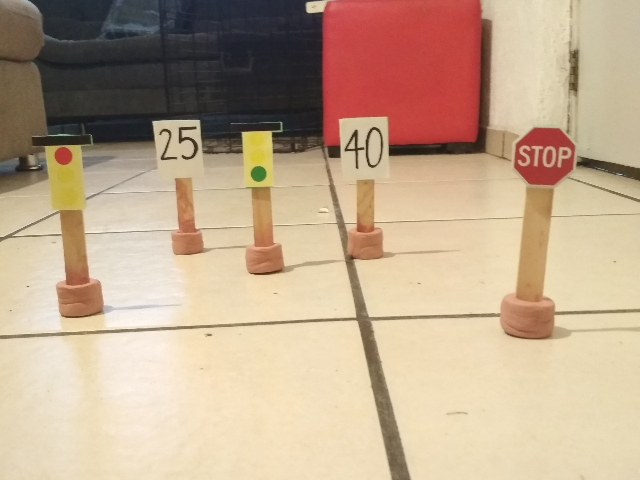Green: (227, 119, 284, 192)
Limit 25: (150, 117, 207, 179)
Limit 40: (335, 114, 391, 181)
Red: (28, 133, 93, 210)
Stop: (510, 122, 577, 189)
